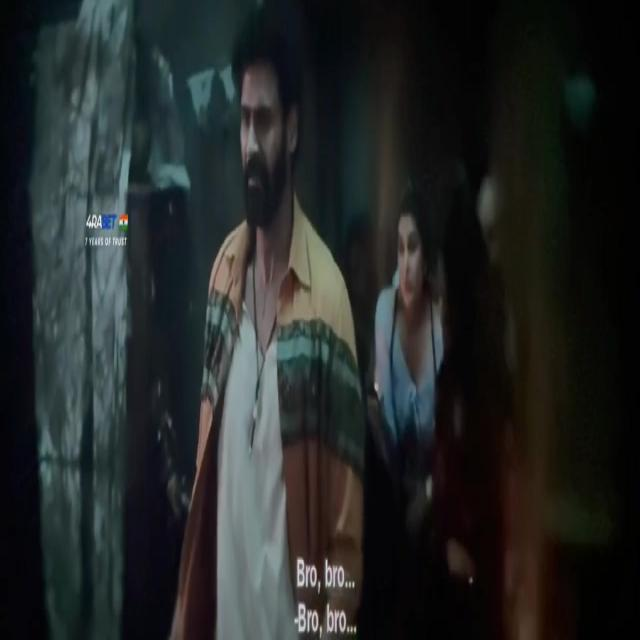4rabet: (81, 206, 133, 256)
